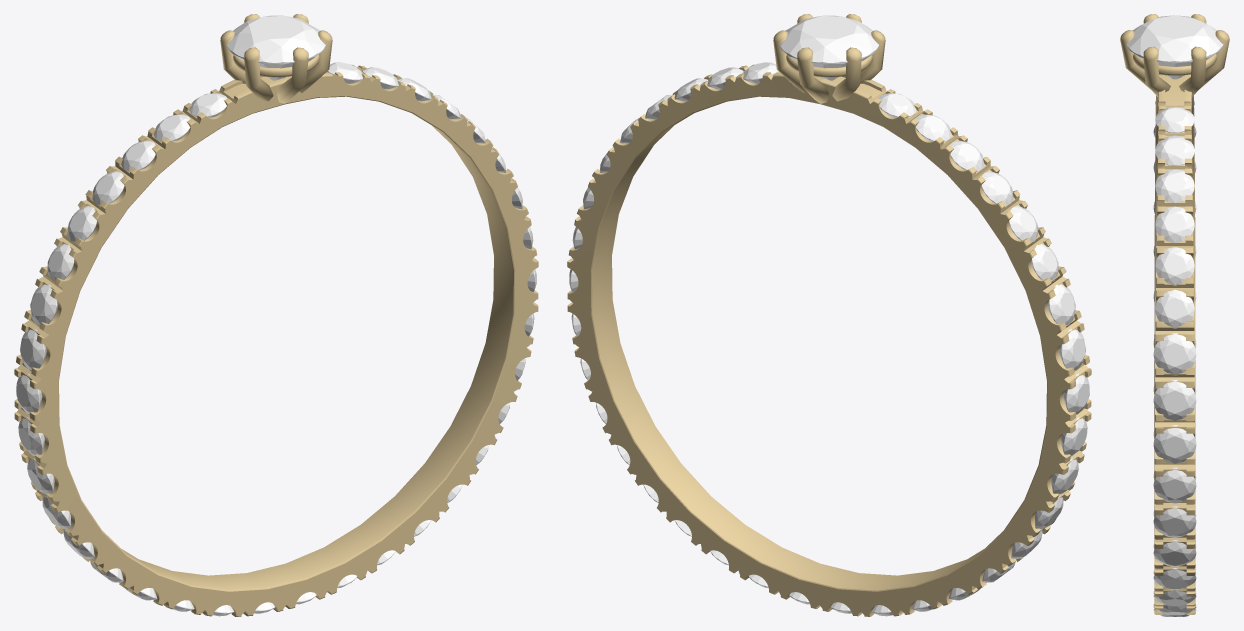
Rendered from MoissaniteRing.glb.
3 views of the same model, side by side, from view 1: azimuth 30°, elevation 25°; view 2: azimuth 150°, elevation 25°; view 3: azimuth 270°, elevation 25° (orthographic). The views are drawn at different scales.
Parts seen in each view (by area): view 1: MoissaniteDiamondRing; view 2: MoissaniteDiamondRing; view 3: MoissaniteDiamondRing.
Boxes of the visible parts, x1=… form: MoissaniteDiamondRing: x1=14, y1=14, x2=538, y2=616; MoissaniteDiamondRing: x1=567, y1=14, x2=1091, y2=616; MoissaniteDiamondRing: x1=1120, y1=14, x2=1229, y2=616.
Size of the model in its own units: 17.48 by 18.96 by 3.34.
Materials: 2 (1 with a texture image).
